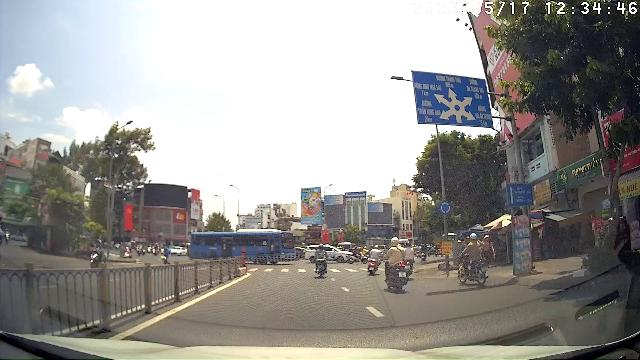303-noi-giao-nhau-chay-theo-vong-xuyen: (439, 200, 451, 214)
